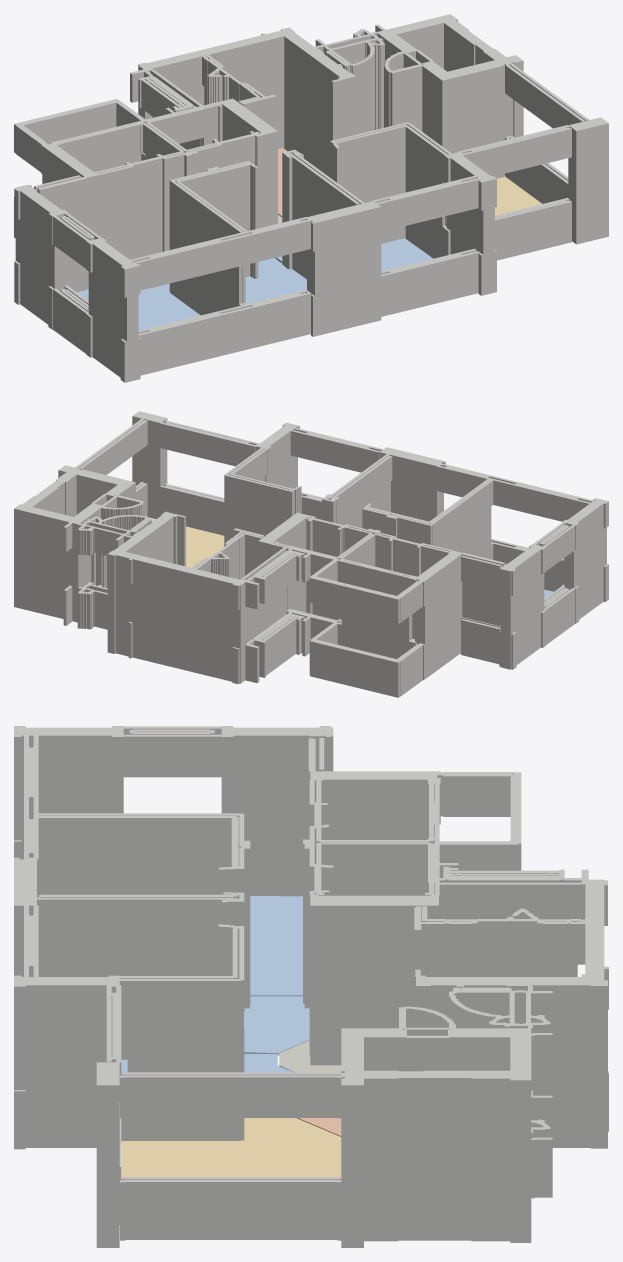
3 views of the same model, one above another, from view 1: azimuth 30°, elevation 25°; view 2: azimuth 150°, elevation 25°; view 3: azimuth 270°, elevation 25° (orthographic). The views are drawn at different scales.
Parts seen in each view (by area): view 1: walls, room:bedroom:0, room:bedroom:7, room:bedroom:9, room:living:8; view 2: walls, room:living:8; view 3: walls, room:living:8, room:bedroom:0, room:bedroom:7, room:yard:2, room:bedroom:9.
Boxes of the visible parts, x1=… form: walls: x1=14, y1=14, x2=608, y2=382; room:bedroom:0: x1=77, y1=283, x2=200, y2=330; room:bedroom:7: x1=245, y1=258, x2=306, y2=303; room:bedroom:9: x1=275, y1=238, x2=432, y2=271; room:living:8: x1=495, y1=176, x2=541, y2=215; walls: x1=14, y1=411, x2=608, y2=697; room:living:8: x1=148, y1=517, x2=224, y2=567; walls: x1=14, y1=726, x2=608, y2=1247; room:living:8: x1=121, y1=1118, x2=341, y2=1179; room:bedroom:0: x1=39, y1=895, x2=302, y2=996; room:bedroom:7: x1=244, y1=996, x2=309, y2=1055; room:yard:2: x1=279, y1=1040, x2=341, y2=1075; room:bedroom:9: x1=121, y1=1054, x2=293, y2=1075.
Size of the model in its own units: 13.25 by 2.8 by 9.28.
